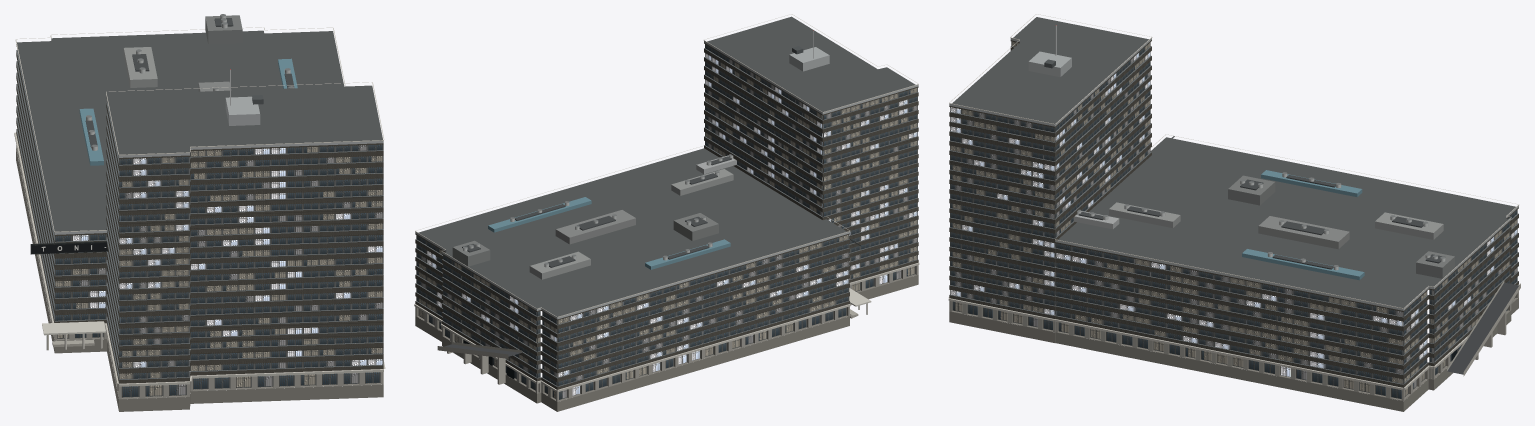
The model's file is toni_areal.glb.
3 views of the same model, side by side, from view 1: azimuth 30°, elevation 25°; view 2: azimuth 150°, elevation 25°; view 3: azimuth 270°, elevation 25° (orthographic). The views are drawn at different scales.
Parts seen in each view (by area): view 1: toni; view 2: toni; view 3: toni.
Boxes of the visible parts, left/top/right/bottom form: toni: left=14, top=14, right=385, bottom=411; toni: left=414, top=14, right=919, bottom=411; toni: left=948, top=14, right=1520, bottom=411.
Size of the model in its own units: 146 by 97 by 194.
Materials: 3 (3 with a texture image).
